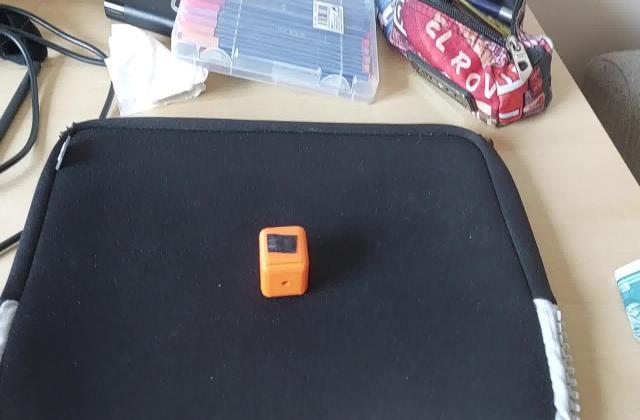black: (262, 232, 302, 256)
sticker: (256, 224, 312, 302)
